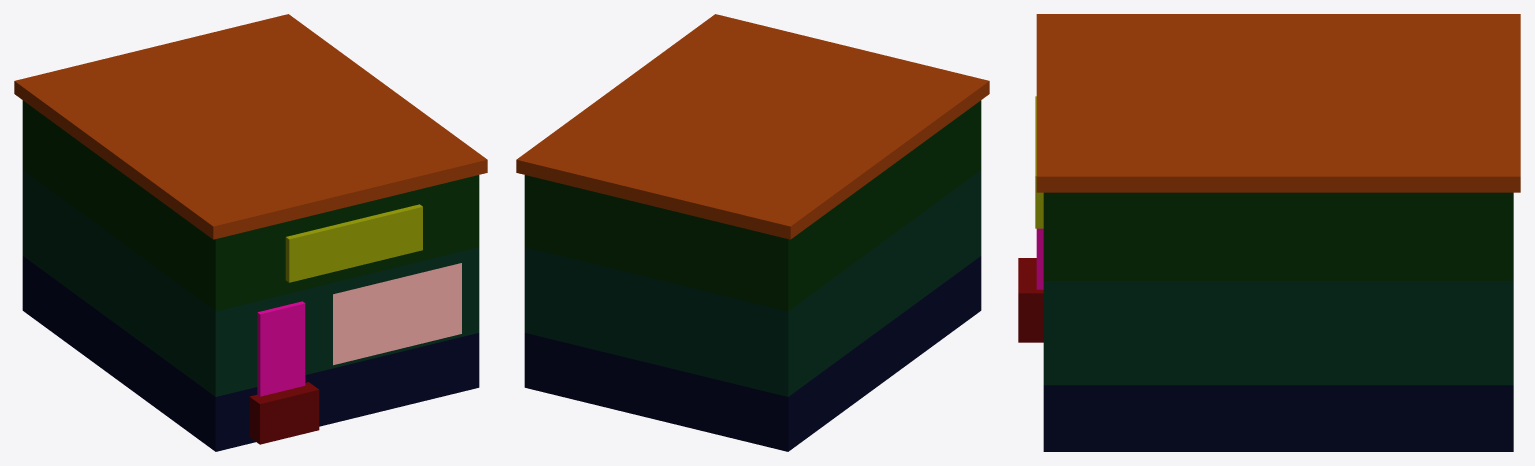
File: Building5.fbx
The picture shows the model from 3 angles, left to right: view 1: azimuth 30°, elevation 25°; view 2: azimuth 150°, elevation 25°; view 3: azimuth 270°, elevation 25°; orthographic projection. The views are drawn at different scales.
Parts seen in each view (by area): view 1: Cube.002; view 2: Cube.002; view 3: Cube.002.
Boxes of the visible parts, x1,y1,x2,y2 form: Cube.002: (14, 14, 487, 451); Cube.002: (516, 14, 989, 451); Cube.002: (1018, 14, 1520, 451).
Size of the model in its own units: 1371 by 1093 by 1789.
